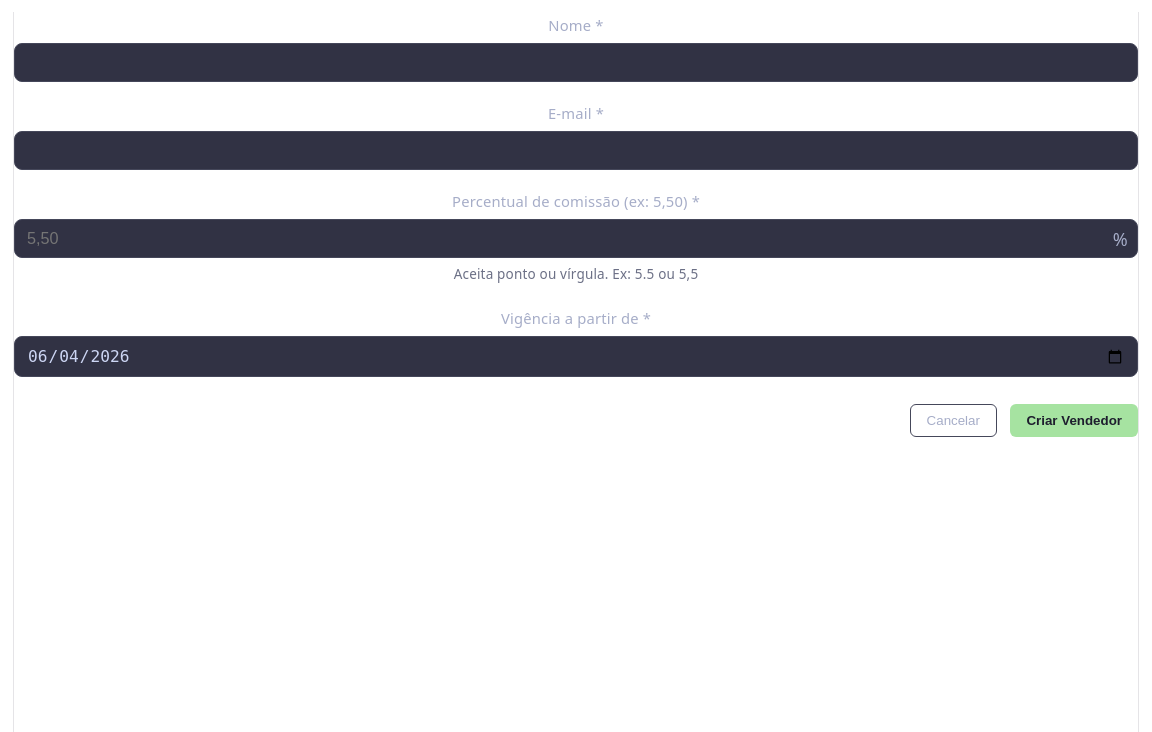
Test case: VendorForm (Task 8.2.2, 8.2.5) › exibe erro quando percentual está fora de [0,100]
The width and height of the screenshot is (1152, 732).
// Preencher nome e email válidos
In the field labelled "Nome *": (576, 63) [14,43,1138,82], type "Vendedor Teste"
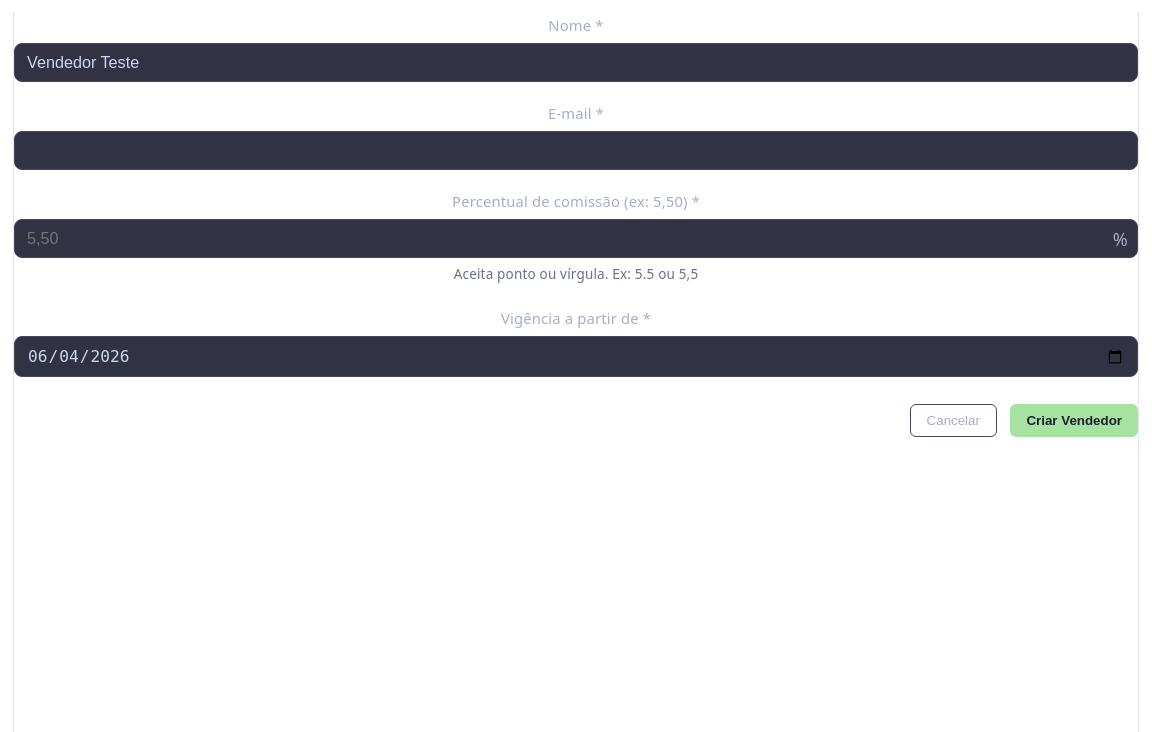
In the field labelled "E-mail *": (576, 151) [14,131,1138,170], type "v@test.com"
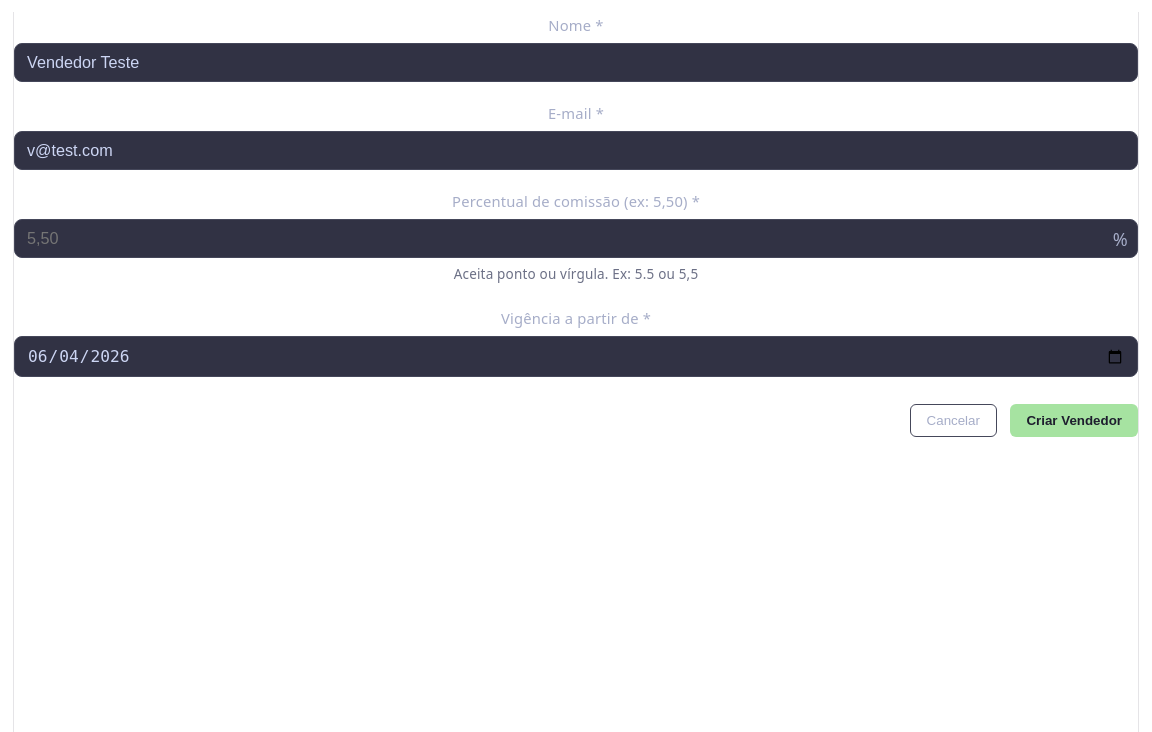
In the field labelled "Percentual de comissão (ex: 5,50) *": (576, 239) [14,219,1138,258], type "150"
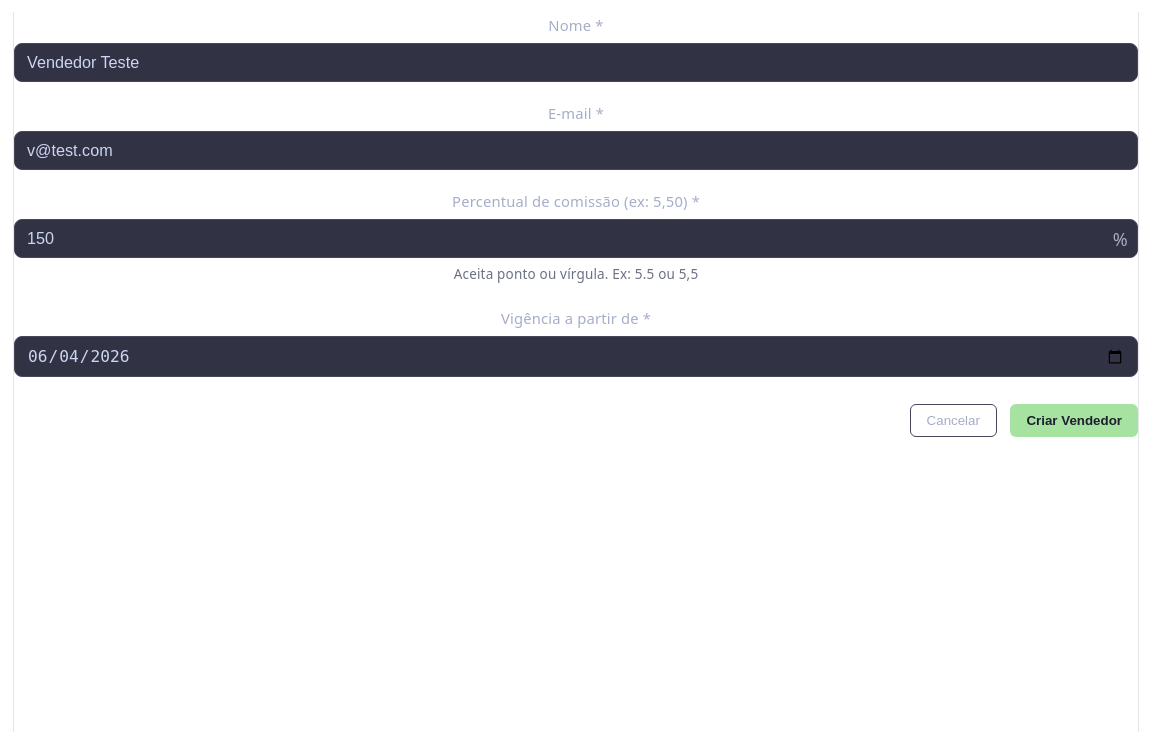
Click the button "Criar Vendedor": (1074, 421) [1010,404,1138,438]
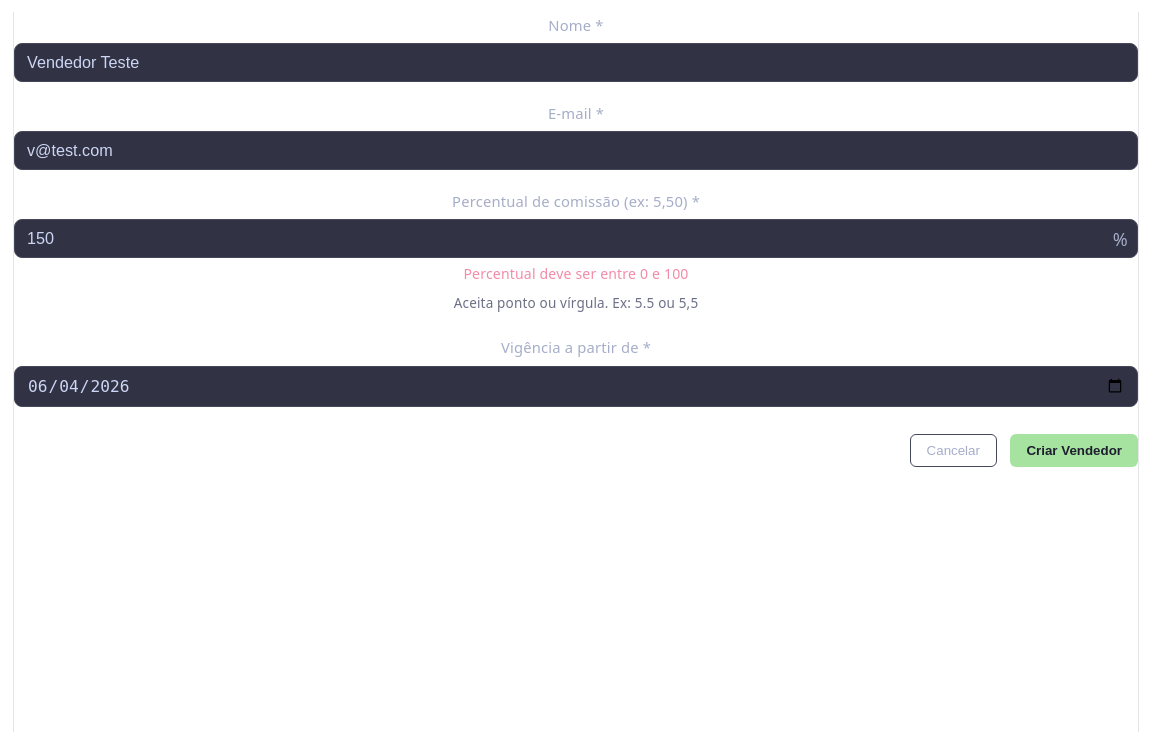
Expected: the text "Percentual deve ser entre 0 e 100" is shown, [463,264,688,283]
